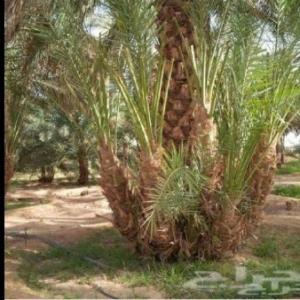palm tree: (6, 0, 299, 261)
